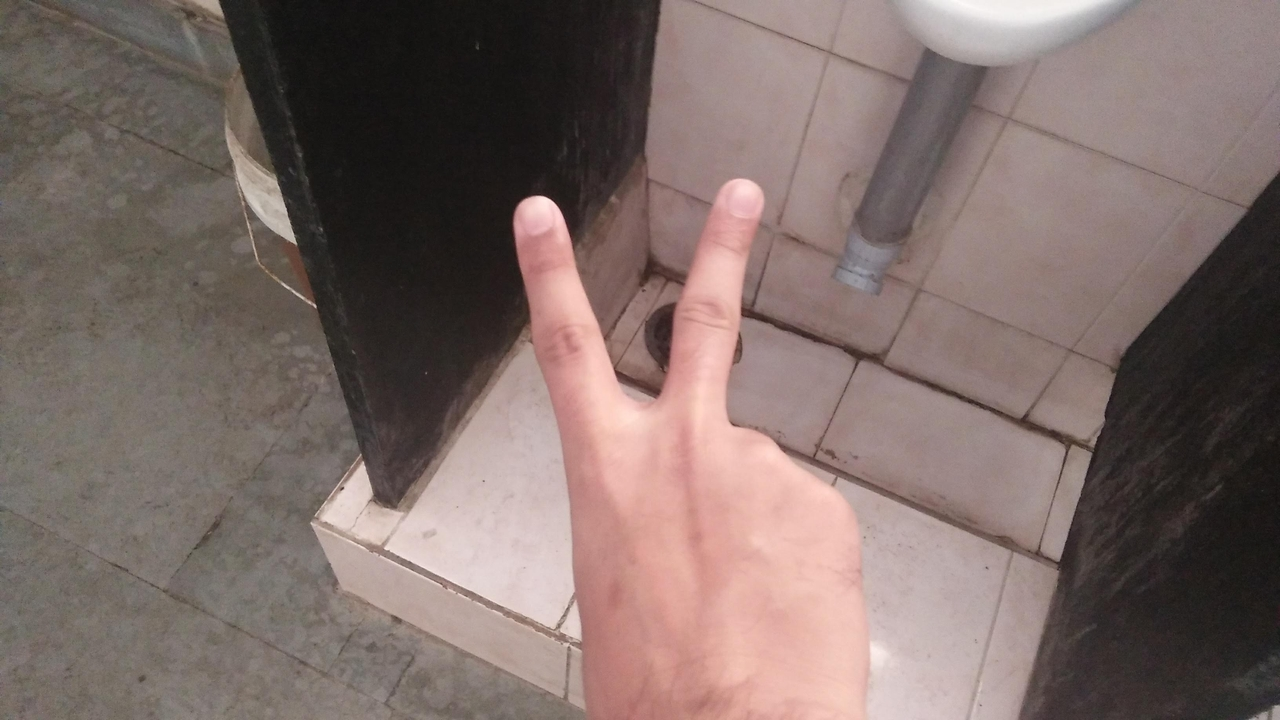fingertip: (706, 168, 772, 232), (504, 190, 572, 252)
